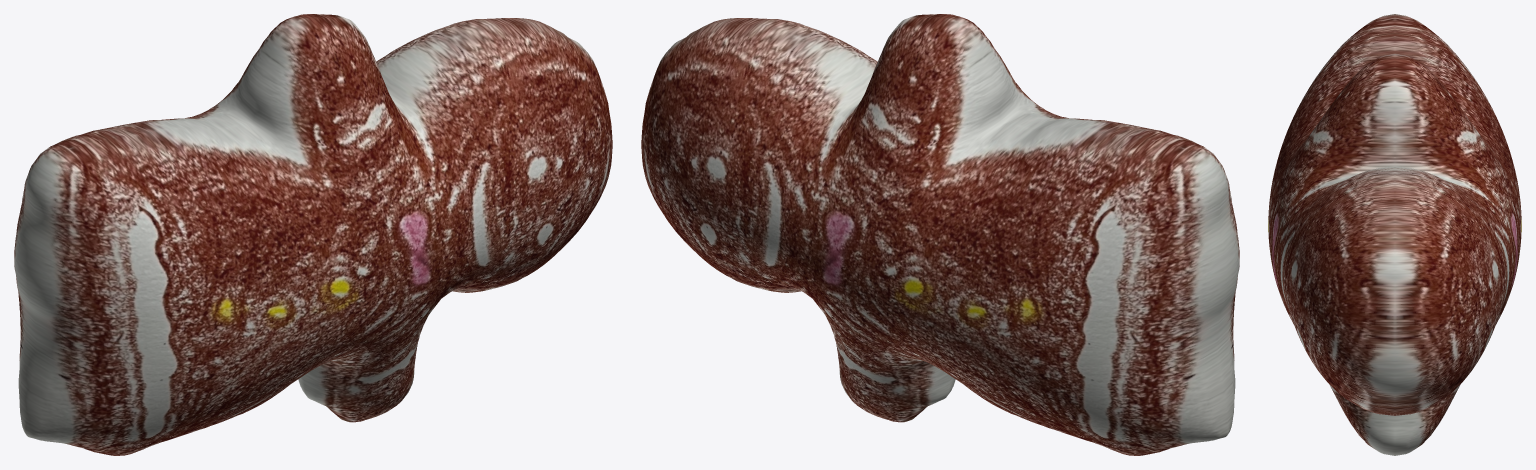
Rendered from 정은지_쿠키.glb.
3 views of the same model, side by side, from view 1: azimuth 30°, elevation 25°; view 2: azimuth 150°, elevation 25°; view 3: azimuth 270°, elevation 25° (orthographic). The views are drawn at different scales.
Size of the model in its own units: 7.44 by 5.08 by 3.15.
Materials: 1 (1 with a texture image).
